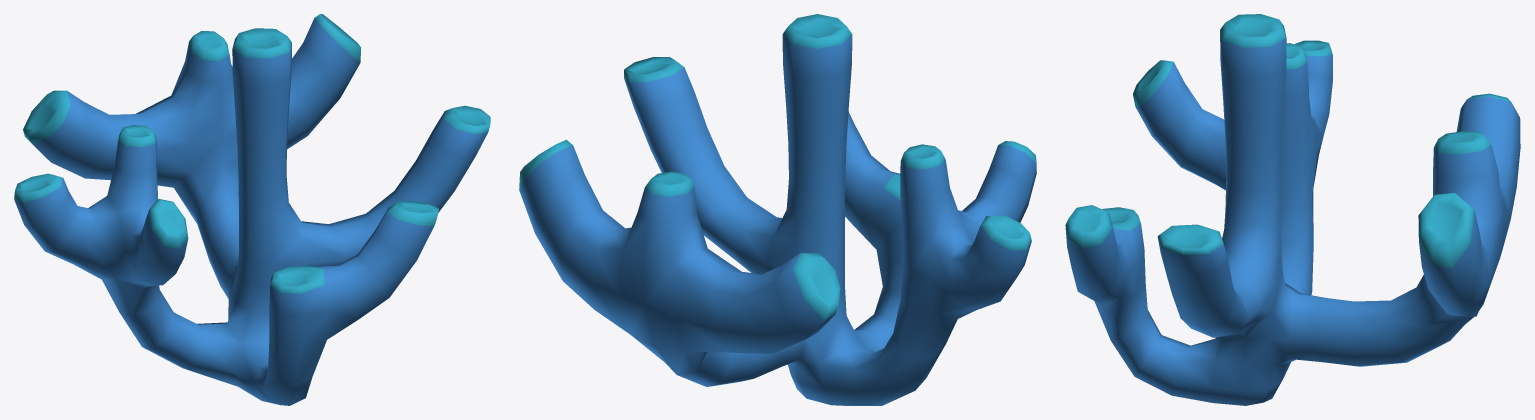
File: terumbu karang biru.fbx
3 renders of one model, left to right at view 1: azimuth 30°, elevation 25°; view 2: azimuth 150°, elevation 25°; view 3: azimuth 270°, elevation 25°, orthographic. The views are drawn at different scales.
Parts seen in each view (by area): view 1: Coral 6; view 2: Coral 6; view 3: Coral 6.
Boxes of the visible parts, x1,y1,x2,y2 form: Coral 6: (14,14,490,405); Coral 6: (519,14,1036,405); Coral 6: (1065,14,1520,405).
Size of the model in its own units: 497 by 388 by 421.
